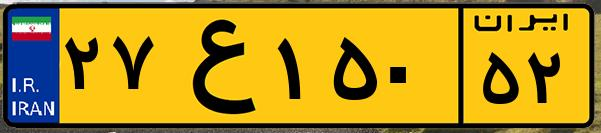0: (385, 28, 445, 110)
1: (270, 28, 330, 110)
2: (57, 26, 110, 100), (525, 38, 570, 115)
5: (330, 28, 385, 110), (475, 38, 525, 113)
7: (110, 28, 158, 98)
ع: (158, 12, 270, 120)
